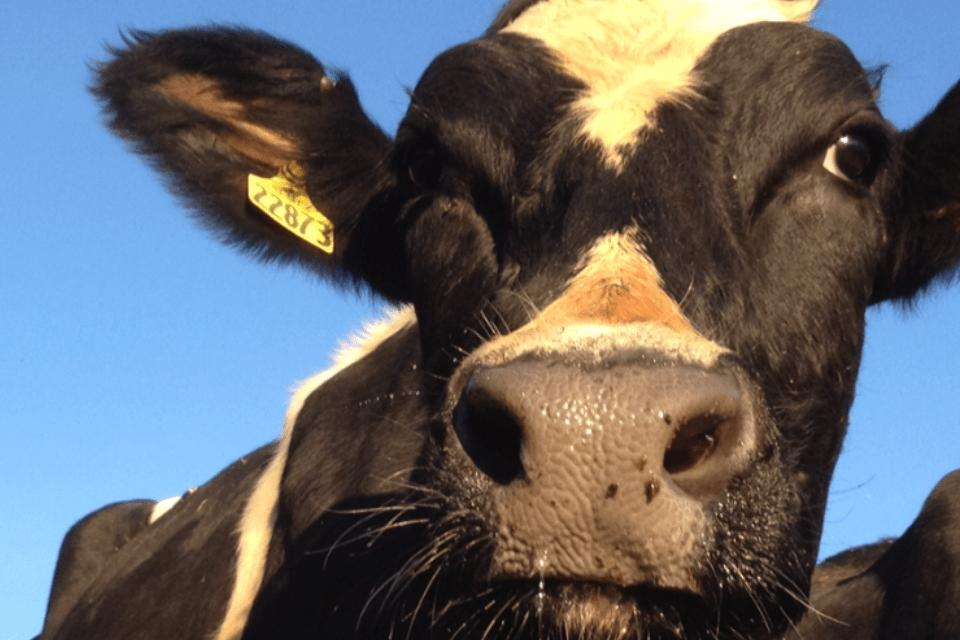muzzles: (413, 334, 795, 640)
